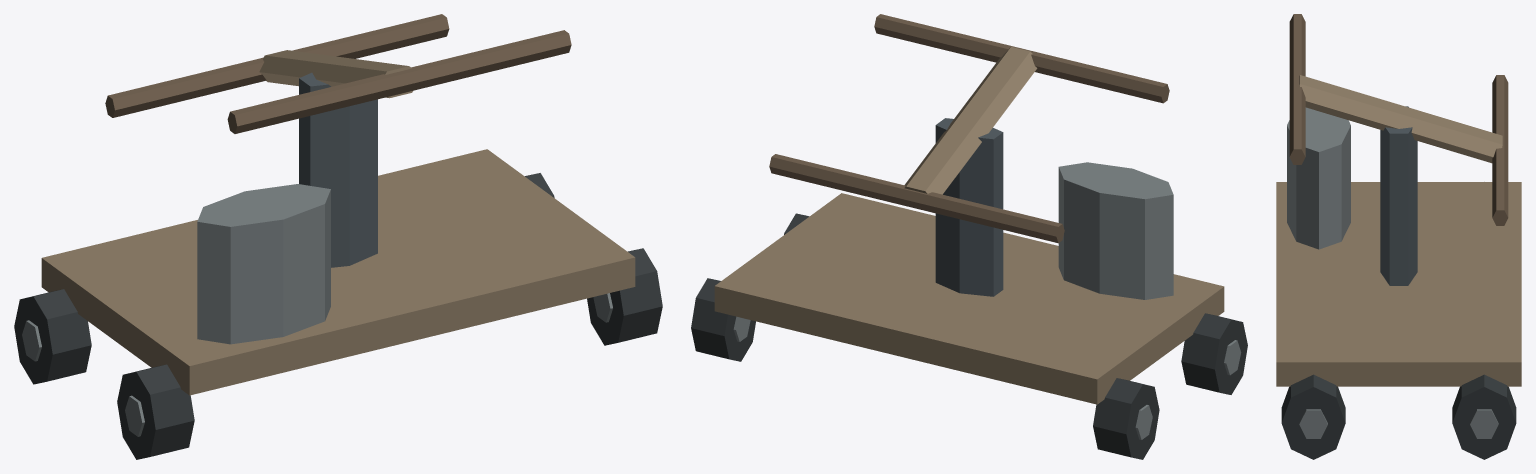
The model's file is hand_pump_cart.glb.
3 views of the same model, side by side, from view 1: azimuth 30°, elevation 25°; view 2: azimuth 150°, elevation 25°; view 3: azimuth 270°, elevation 25° (orthographic). The views are drawn at different scales.
Parts seen in each view (by area): view 1: hand_pump_cart; view 2: hand_pump_cart; view 3: hand_pump_cart.
Part boxes in pixels (<box>): hand_pump_cart: <box>14,14,662,459</box>; hand_pump_cart: <box>691,14,1247,459</box>; hand_pump_cart: <box>1276,14,1521,459</box>.
Size of the model in its own units: 1.92 by 1.2 by 0.96.
